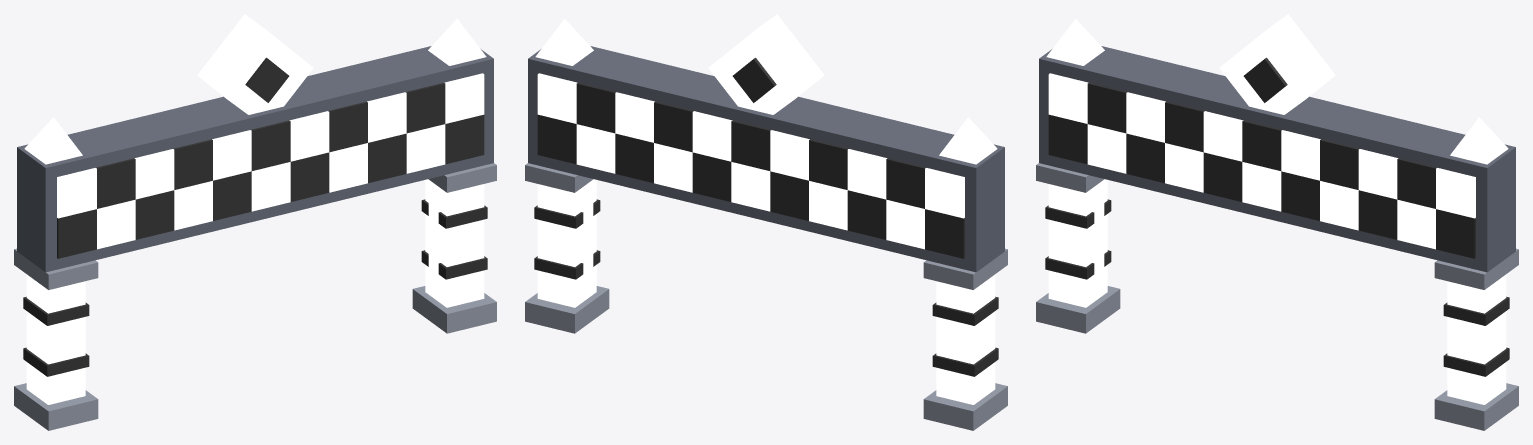
Rendered from finish_gate (2).glb.
3 renders of one model, left to right at view 1: azimuth 30°, elevation 25°; view 2: azimuth 150°, elevation 25°; view 3: azimuth 330°, elevation 25°, orthographic.
Visible parts, largest first — view 1: FinishGate; view 2: FinishGate; view 3: FinishGate.
Boxes of the visible parts, bbox=[...] form: FinishGate: bbox=[14, 14, 496, 430]; FinishGate: bbox=[525, 14, 1007, 430]; FinishGate: bbox=[1036, 14, 1518, 430].
Size of the model in its own units: 6 by 4.37 by 0.8.
